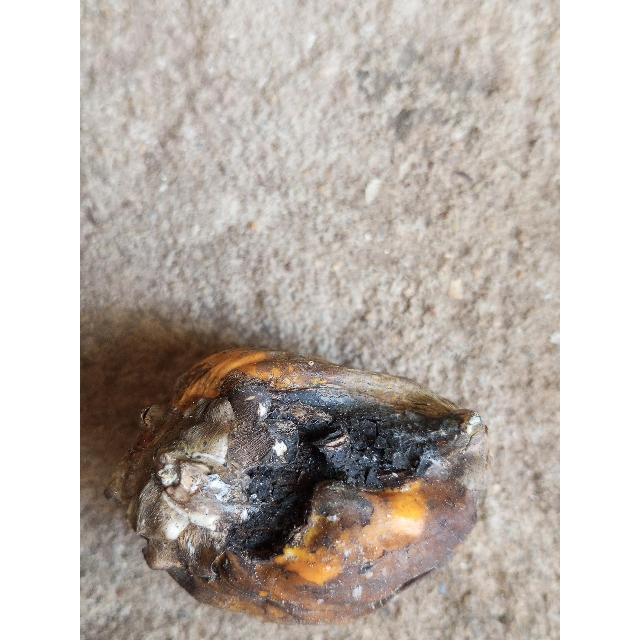damaged: (106, 349, 488, 622)
